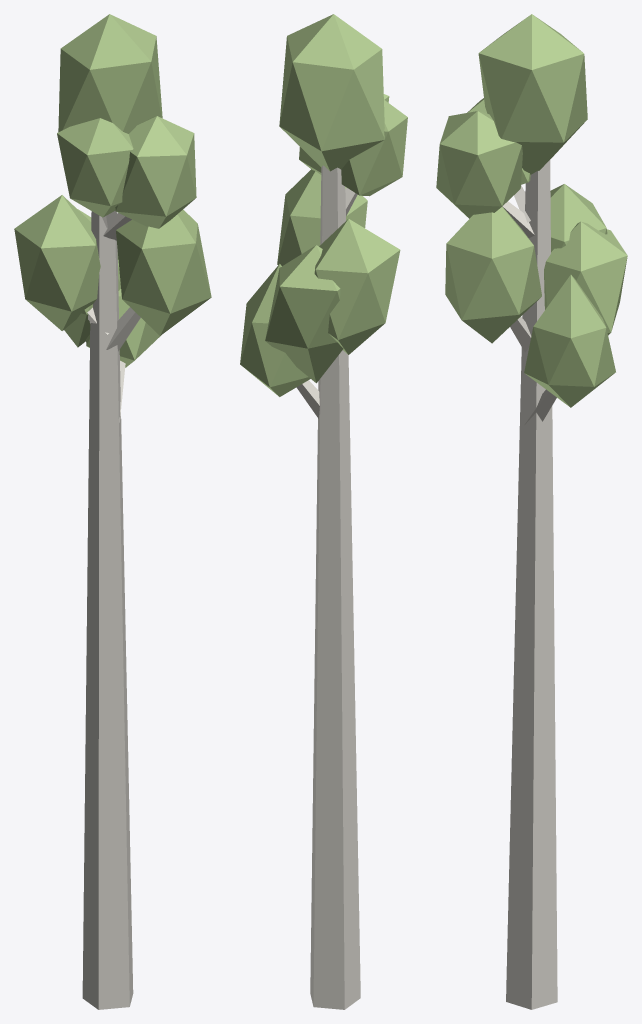
The model's file is arv_betula_2_sem_textura.glb.
3 renders of one model, left to right at view 1: azimuth 30°, elevation 25°; view 2: azimuth 150°, elevation 25°; view 3: azimuth 270°, elevation 25°, orthographic.
Visible parts, largest first — view 1: arv_betula_2; view 2: arv_betula_2; view 3: arv_betula_2.
Boxes of the visible parts, x1,y1,x2,y2 form: arv_betula_2: (14, 14, 211, 1009); arv_betula_2: (240, 14, 407, 1009); arv_betula_2: (436, 14, 627, 1009).
Size of the model in its own units: 0.3767 by 2.6 by 0.4581.
